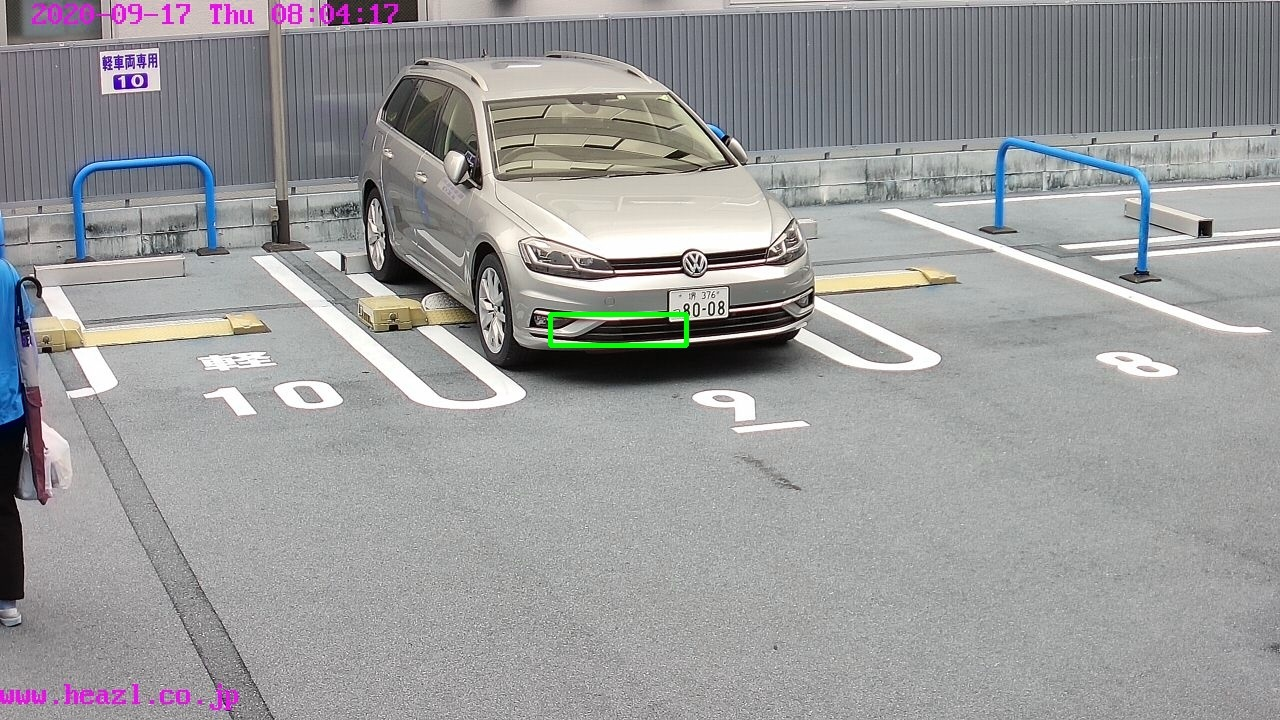number_plate: (669, 289, 733, 319)
